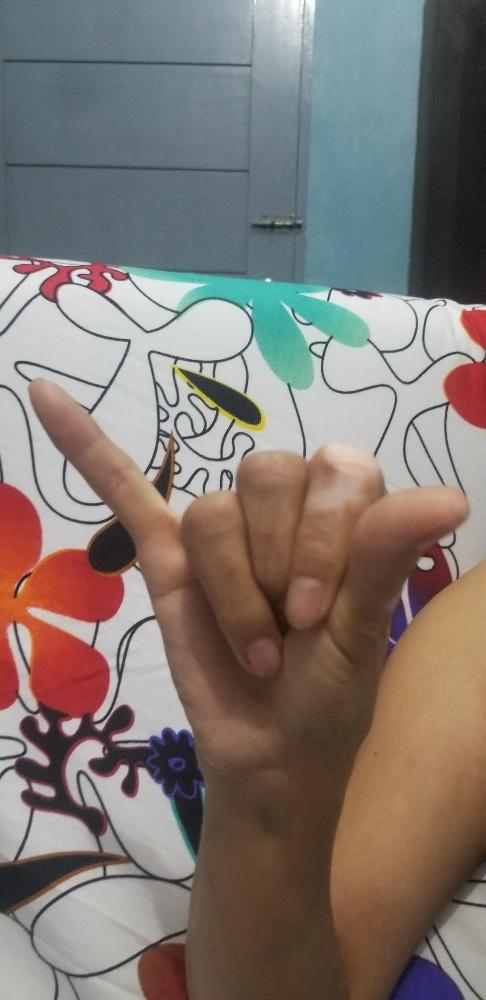y: (26, 373, 471, 781)
